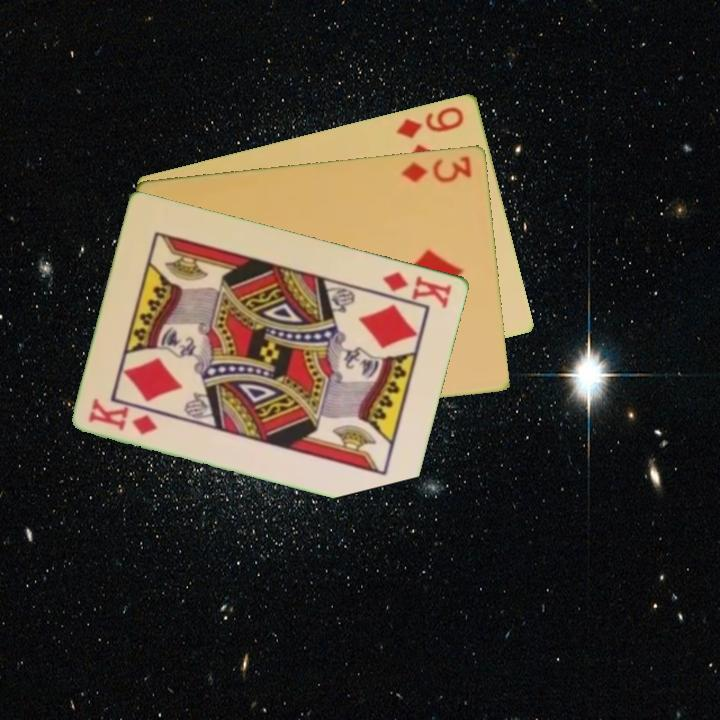3d: (398, 152, 475, 186)
9d: (393, 102, 467, 141)
Kd: (380, 267, 455, 311), (85, 395, 161, 437)
